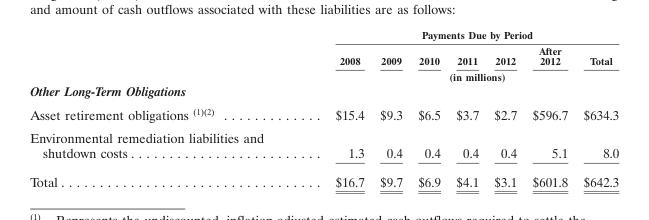table: (29, 28, 618, 189)
table column: (29, 28, 298, 189), (298, 28, 371, 189), (523, 28, 575, 189), (575, 28, 618, 189), (371, 28, 409, 189), (409, 28, 447, 189), (447, 28, 485, 189), (485, 28, 523, 189)
table column header: (29, 28, 618, 82)
table projected row header: (29, 82, 618, 102)
table row: (29, 125, 618, 166), (29, 42, 618, 68), (29, 102, 618, 125), (29, 166, 618, 189), (29, 82, 618, 102), (29, 28, 618, 42), (29, 68, 618, 82)
table spanning cell: (298, 28, 618, 42), (298, 68, 618, 82)
